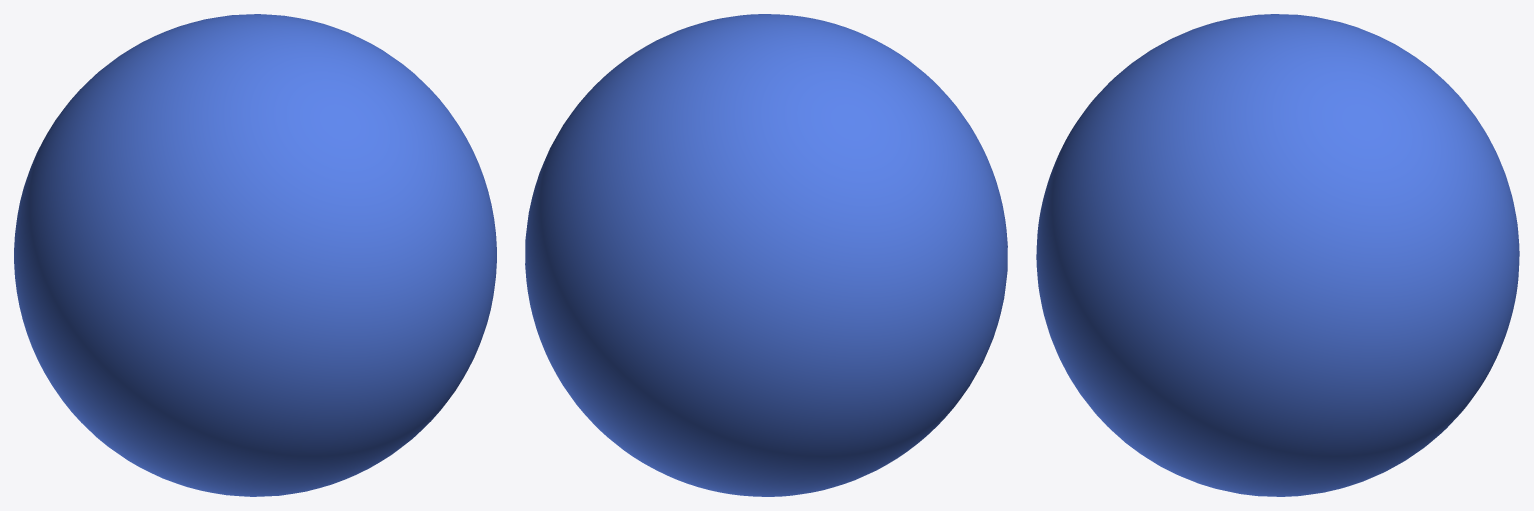
File: neptune.glb
The picture shows the model from 3 angles, left to right: view 1: azimuth 30°, elevation 25°; view 2: azimuth 150°, elevation 25°; view 3: azimuth 270°, elevation 25°; orthographic projection.
Visible parts, largest first — view 1: planet1atmosphere; view 2: planet1atmosphere; view 3: planet1atmosphere.
Part boxes in pixels (bbox=[...]): planet1atmosphere: bbox=[14, 14, 496, 496]; planet1atmosphere: bbox=[525, 14, 1007, 496]; planet1atmosphere: bbox=[1036, 14, 1519, 496].
Size of the model in its own units: 8.03 by 8.03 by 8.03.
